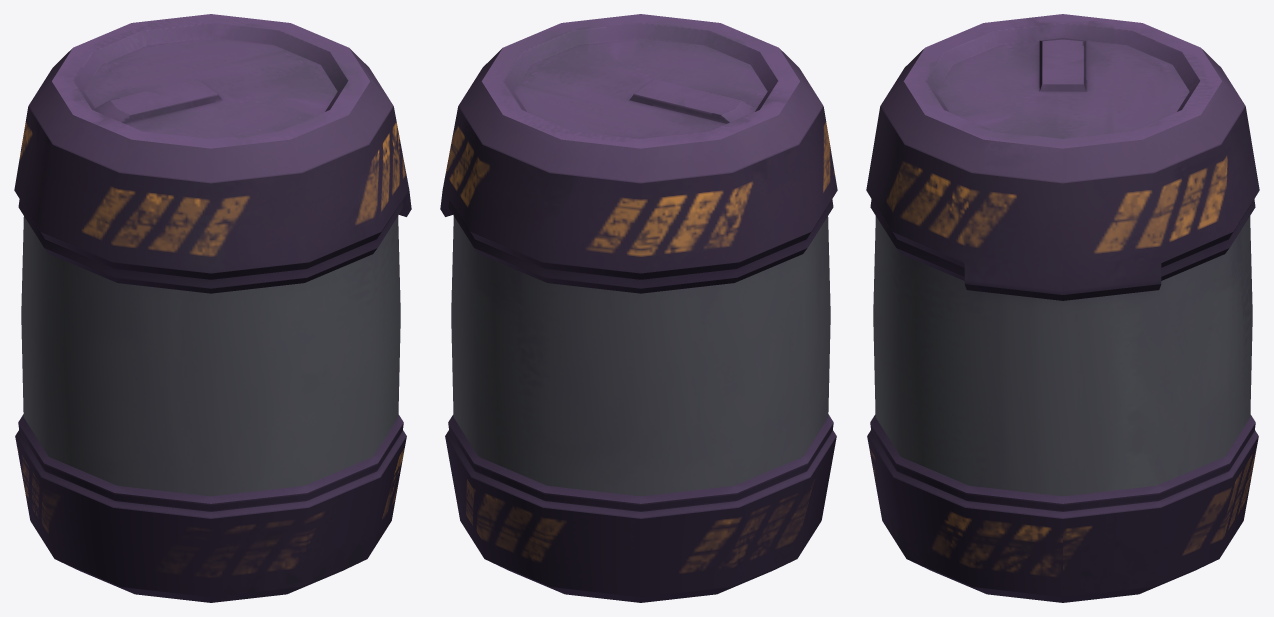
Rendered from Barrel.glb.
3 renders of one model, left to right at view 1: azimuth 30°, elevation 25°; view 2: azimuth 150°, elevation 25°; view 3: azimuth 270°, elevation 25°, orthographic.
Parts seen in each view (by area): view 1: Cylinder; view 2: Cylinder; view 3: Cylinder.
Part boxes in pixels (<box>): Cylinder: <box>14,14,411,602</box>; Cylinder: <box>440,14,837,602</box>; Cylinder: <box>866,14,1259,602</box>.
Size of the model in its own units: 0.6432 by 0.8171 by 0.6364.
Materials: 1 (1 with a texture image).
